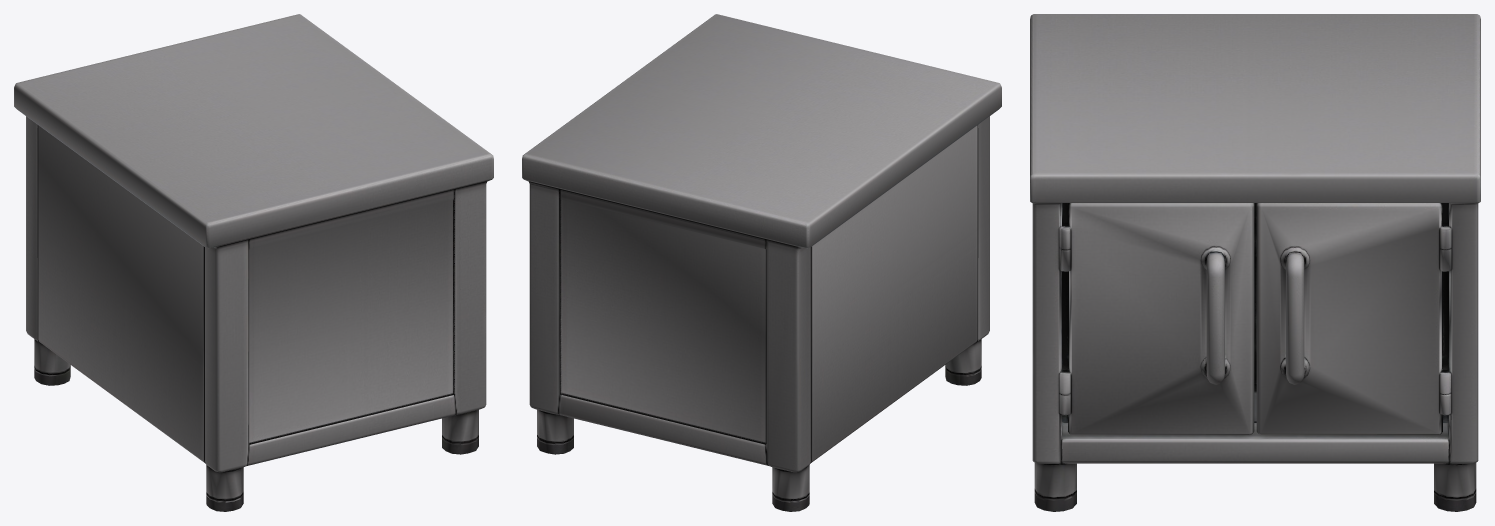
The model's file is tripo_convert_a5077c80-a999-4eed-8cf4-6bc9eb0b008d.fbx.
3 renders of one model, left to right at view 1: azimuth 30°, elevation 25°; view 2: azimuth 150°, elevation 25°; view 3: azimuth 270°, elevation 25°, orthographic. The views are drawn at different scales.
Visible parts, largest first — view 1: tripo_node_a5077c80; view 2: tripo_node_a5077c80; view 3: tripo_node_a5077c80.
Boxes of the visible parts, x1,y1,x2,y2 form: tripo_node_a5077c80: [14, 14, 493, 511]; tripo_node_a5077c80: [522, 14, 1001, 511]; tripo_node_a5077c80: [1030, 14, 1480, 511].
Bounding box in the file's own units: 0.9061 × 0.8356 × 1.
